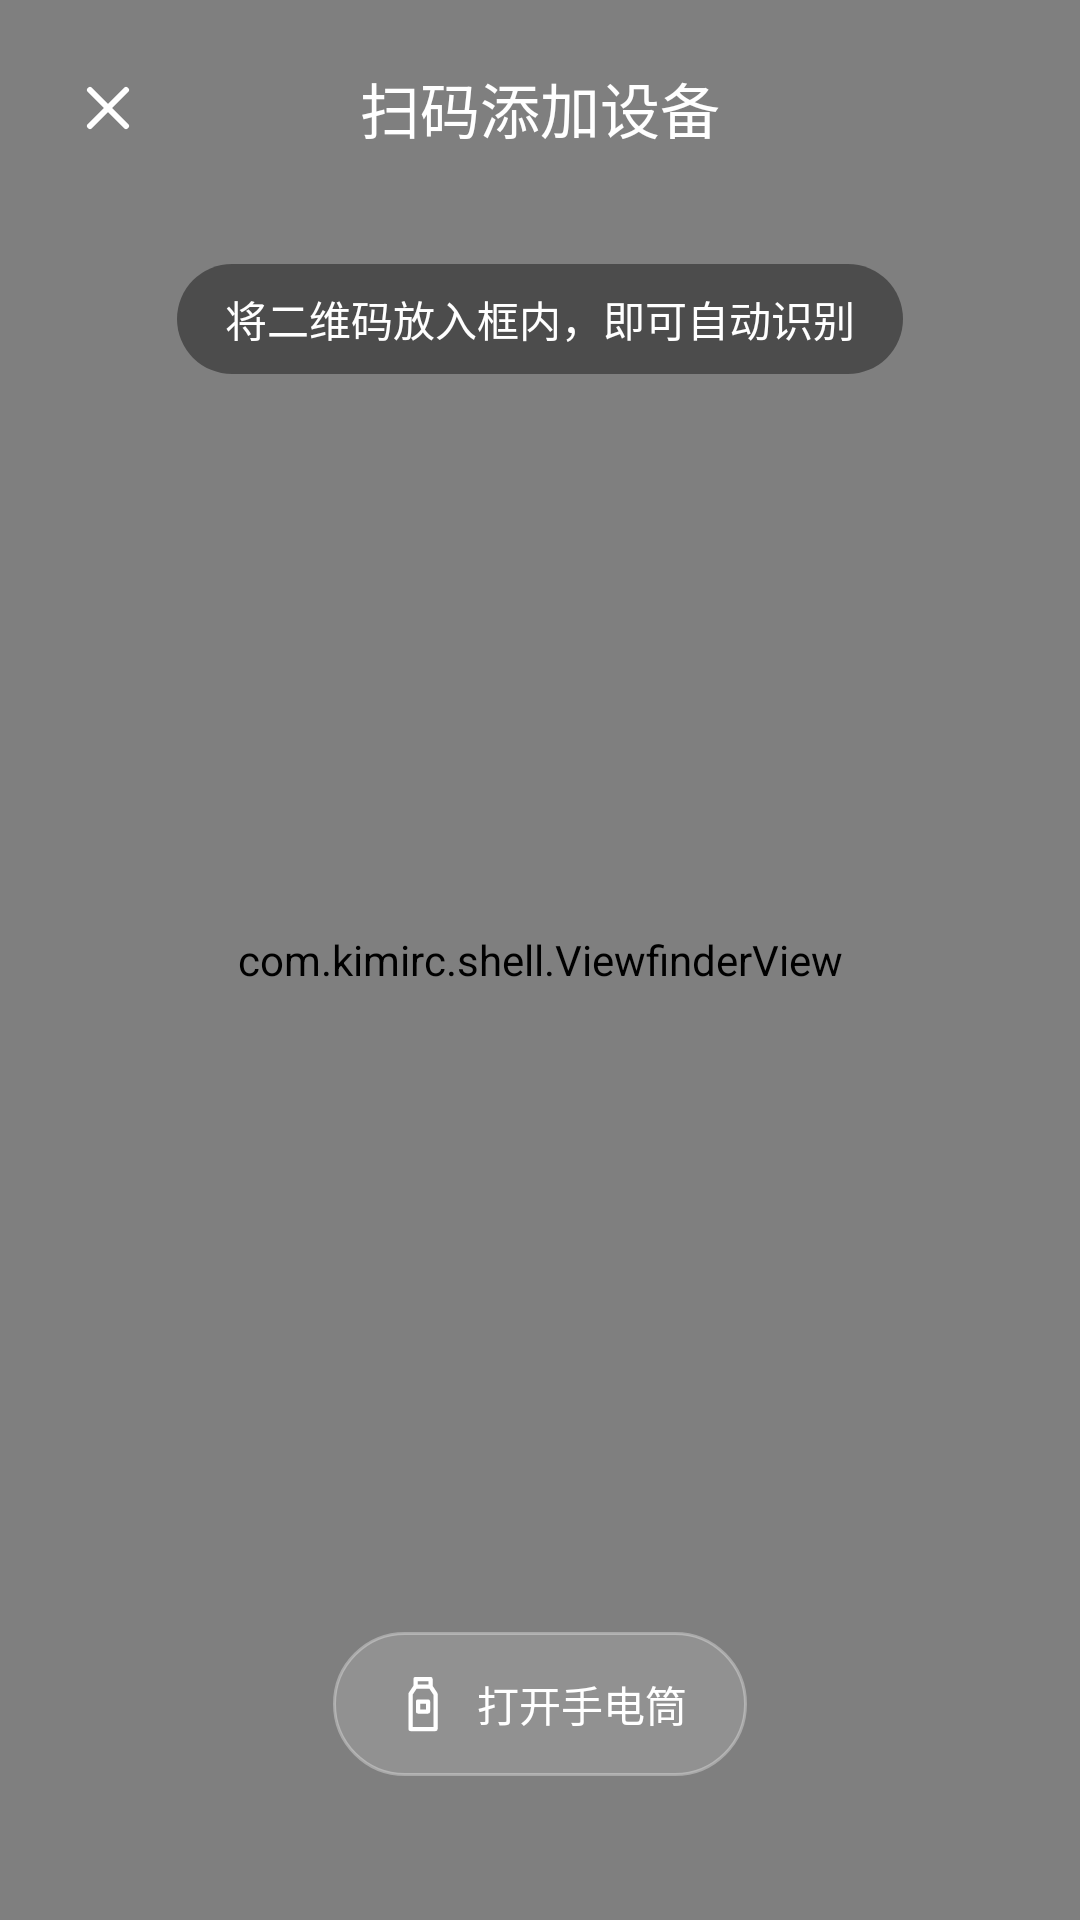

Point at icon controls on the screen. Image size 1080px×1920px, points as (x=x, y=y).
关闭扫码: (x=108, y=108)
